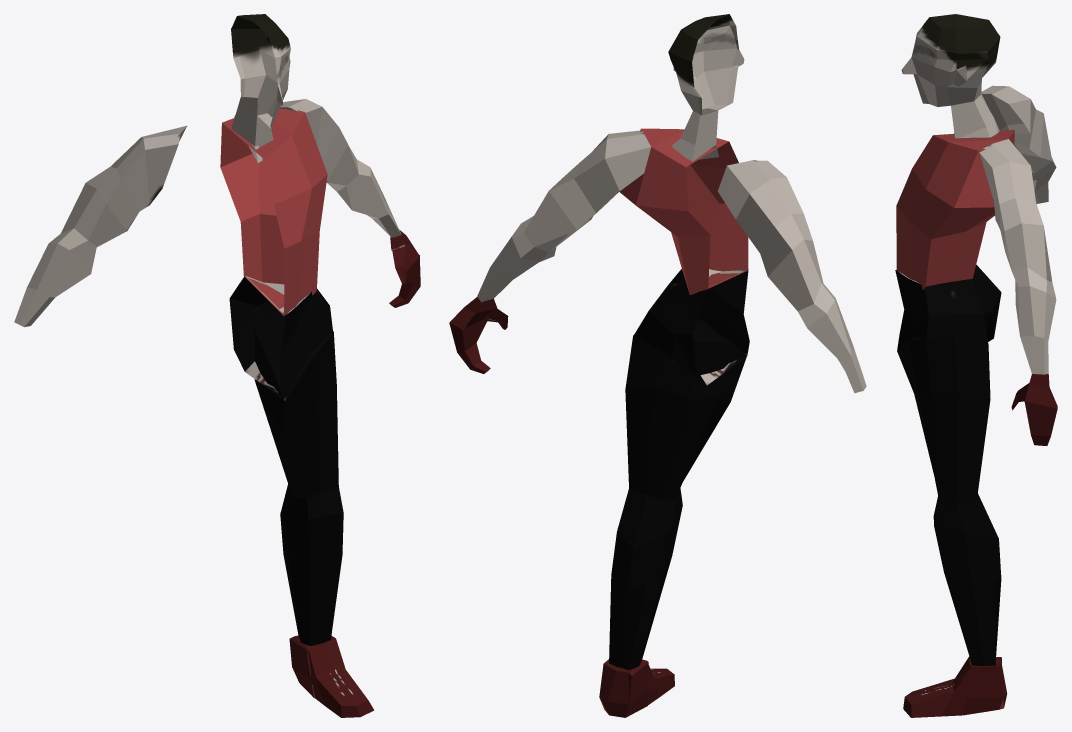
The model's file is character.glb.
The picture shows the model from 3 angles, left to right: view 1: azimuth 30°, elevation 25°; view 2: azimuth 150°, elevation 25°; view 3: azimuth 270°, elevation 25°; orthographic projection. The views are drawn at different scales.
Parts seen in each view (by area): view 1: leg, arm, Torso, Head, pelvis, shoe, hand; view 2: leg, arm, Torso, Head, pelvis, shoe, hand; view 3: leg, arm, Torso, Head, pelvis, shoe, hand.
Part boxes in pixels (x1,y1,x2,y2): leg: (254, 311, 343, 646); arm: (14, 99, 401, 327); Torso: (220, 108, 327, 315); Head: (231, 14, 290, 162); pelvis: (229, 276, 332, 400); shoe: (289, 635, 374, 717); hand: (389, 230, 420, 307); leg: (609, 319, 746, 670); arm: (477, 130, 866, 393); Torso: (619, 128, 748, 294); Head: (668, 14, 744, 161); pelvis: (634, 269, 749, 385); shoe: (599, 659, 674, 717); hand: (449, 297, 508, 373); leg: (897, 333, 1001, 665); arm: (979, 85, 1056, 374); Torso: (896, 129, 1014, 289); Head: (901, 14, 1000, 138); pelvis: (895, 264, 1001, 351); shoe: (903, 656, 1007, 717); hand: (1011, 373, 1057, 445).
Size of the model in its own units: 1.28 by 2.1 by 0.4688.
1 material, 1 textured.
